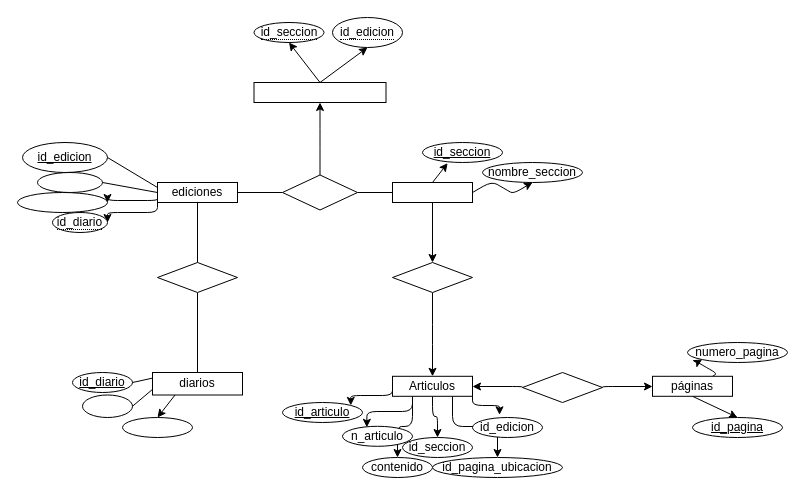
Image size: 805x495. Some labels were removed from this diagram. Here are the shapes that lost their labels. From the top down, the centre of each, then its label:
(x=319, y=92): ediciones_secciones
(x=62, y=202): fecha_edicion
(x=69, y=182): n_edicion
(x=320, y=192): Separa n : m
(x=432, y=192): secciones
(x=197, y=277): Tiene 1 : n
(x=432, y=277): Se divide 1 : n
(x=107, y=406): nombre
(x=562, y=387): tienen 1 : n
(x=157, y=427): f_diario
